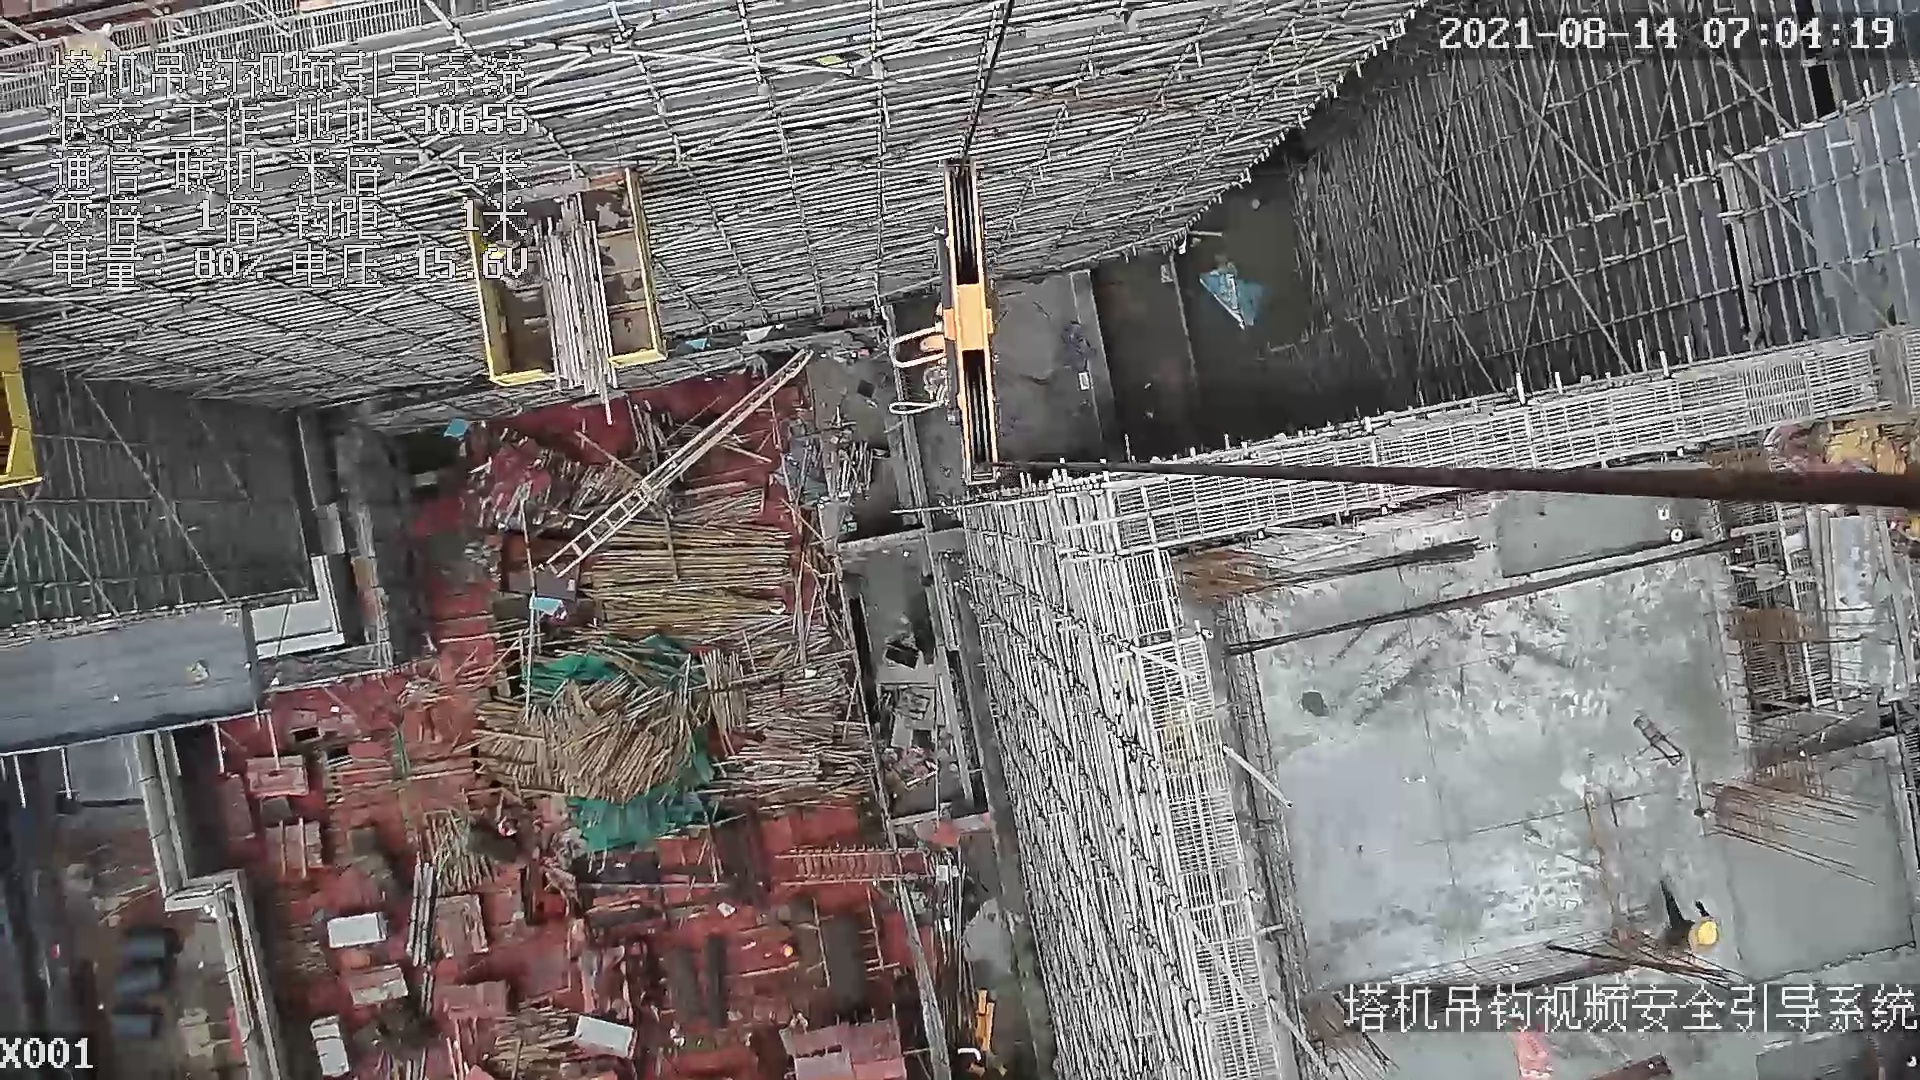hook: (899, 162, 1005, 490)
person: (1650, 878, 1720, 962)
